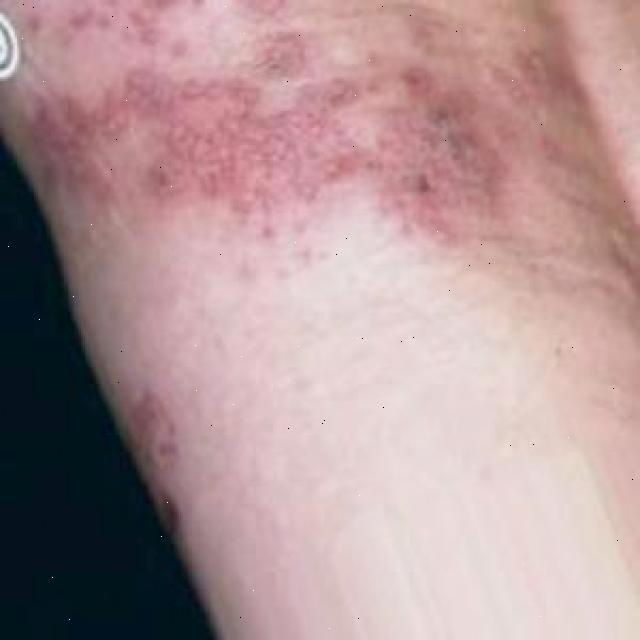Shingles: (22, 11, 550, 223)
